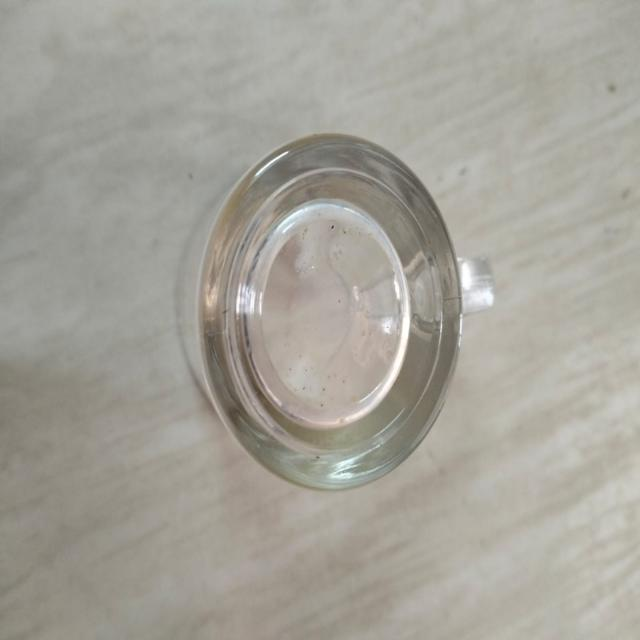glass-VX4N: (170, 132, 500, 499)
